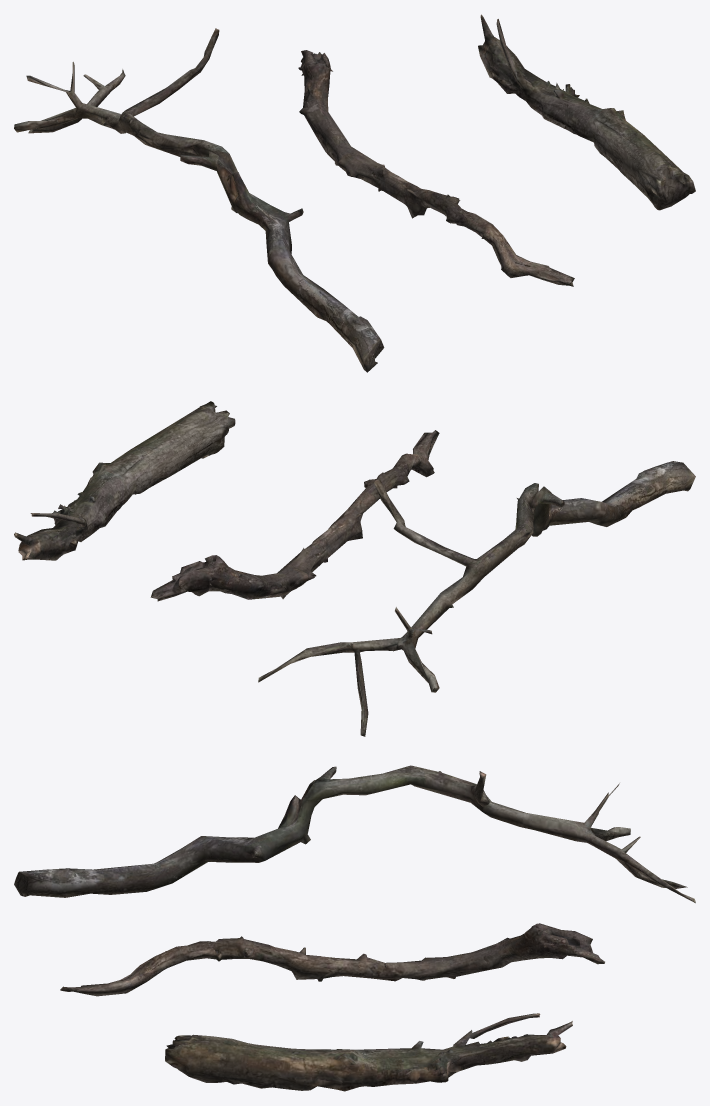
The model's file is dry_branches_medium_01.lod.glb.
3 renders of one model, top to bottom at view 1: azimuth 30°, elevation 25°; view 2: azimuth 150°, elevation 25°; view 3: azimuth 270°, elevation 25°, orthographic. The views are drawn at different scales.
Visible parts, largest first — view 1: dry_branches_medium_01_a, dry_branches_medium_01_c, dry_branches_medium_01_b; view 2: dry_branches_medium_01_a, dry_branches_medium_01_c, dry_branches_medium_01_b; view 3: dry_branches_medium_01_a, dry_branches_medium_01_c, dry_branches_medium_01_b.
Part boxes in pixels (bbox=[...]): dry_branches_medium_01_a: bbox=[14, 28, 384, 372]; dry_branches_medium_01_c: bbox=[478, 14, 695, 210]; dry_branches_medium_01_b: bbox=[298, 50, 574, 286]; dry_branches_medium_01_a: bbox=[258, 461, 695, 736]; dry_branches_medium_01_c: bbox=[14, 401, 235, 560]; dry_branches_medium_01_b: bbox=[150, 430, 439, 601]; dry_branches_medium_01_a: bbox=[14, 765, 695, 903]; dry_branches_medium_01_c: bbox=[165, 1013, 572, 1091]; dry_branches_medium_01_b: bbox=[60, 923, 604, 996].
Size of the model in its own units: 1.06 by 0.3401 by 1.3.
1 material, 1 textured.
